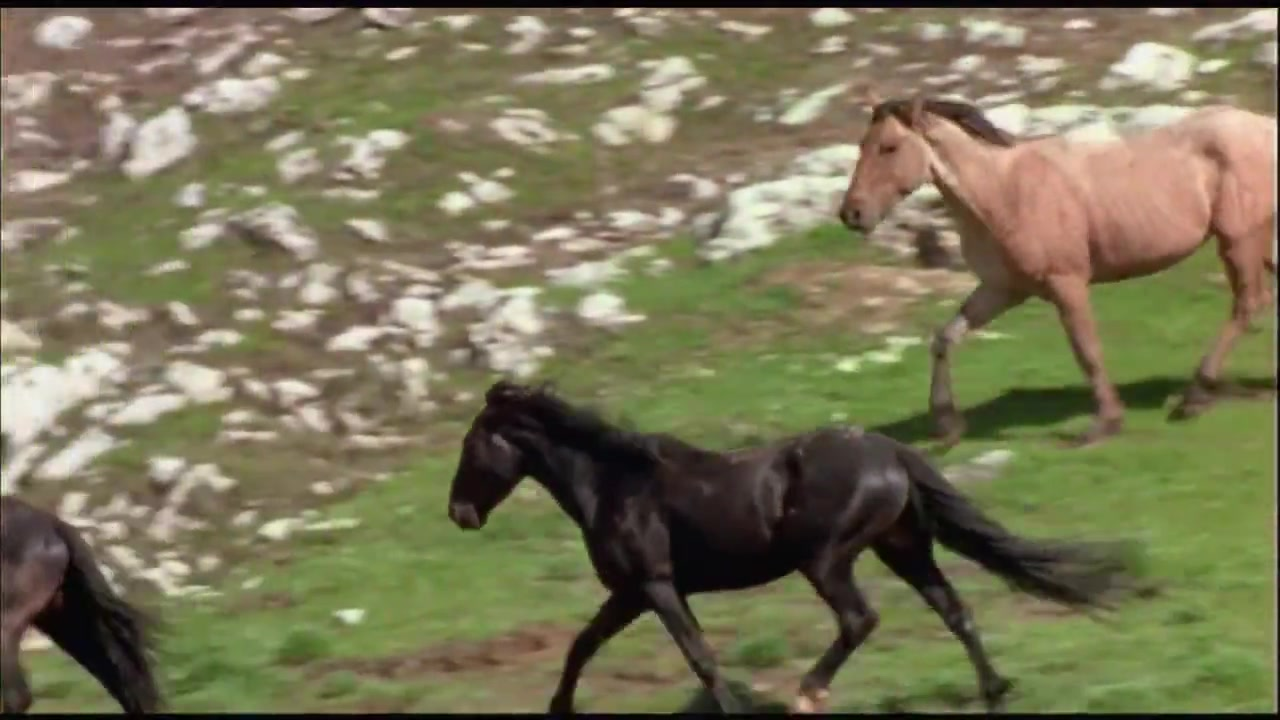horse: (448, 379, 1146, 715)
